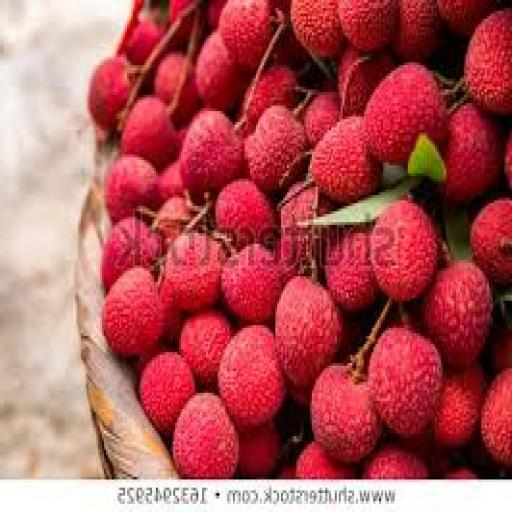lychee: (363, 63, 447, 165), (367, 328, 441, 436), (421, 263, 491, 368), (275, 277, 341, 387), (309, 366, 382, 463), (369, 201, 437, 303), (217, 326, 283, 428), (309, 117, 380, 203), (442, 103, 501, 203), (173, 393, 237, 479), (180, 112, 243, 197), (244, 106, 306, 192), (102, 269, 162, 357), (463, 9, 511, 113), (161, 233, 224, 311), (221, 244, 280, 325), (138, 353, 193, 438), (213, 179, 276, 249), (100, 217, 160, 289), (325, 231, 378, 311), (433, 366, 484, 449), (179, 309, 231, 390), (279, 182, 326, 270), (194, 33, 247, 111), (121, 98, 178, 170), (338, 47, 393, 116), (469, 198, 511, 287), (217, 0, 270, 70), (103, 155, 156, 222), (242, 66, 295, 132), (153, 52, 197, 124), (86, 57, 129, 130), (336, 0, 397, 51), (481, 369, 511, 468), (392, 0, 439, 62), (290, 0, 341, 56), (238, 423, 280, 479), (361, 445, 428, 479), (436, 0, 493, 37), (296, 442, 353, 479), (302, 93, 339, 146), (155, 196, 191, 246), (123, 19, 162, 65), (157, 282, 181, 344), (157, 160, 183, 203), (488, 328, 511, 373), (167, 0, 193, 24), (205, 0, 226, 29), (444, 466, 478, 479), (504, 131, 511, 189), (275, 464, 295, 479)
